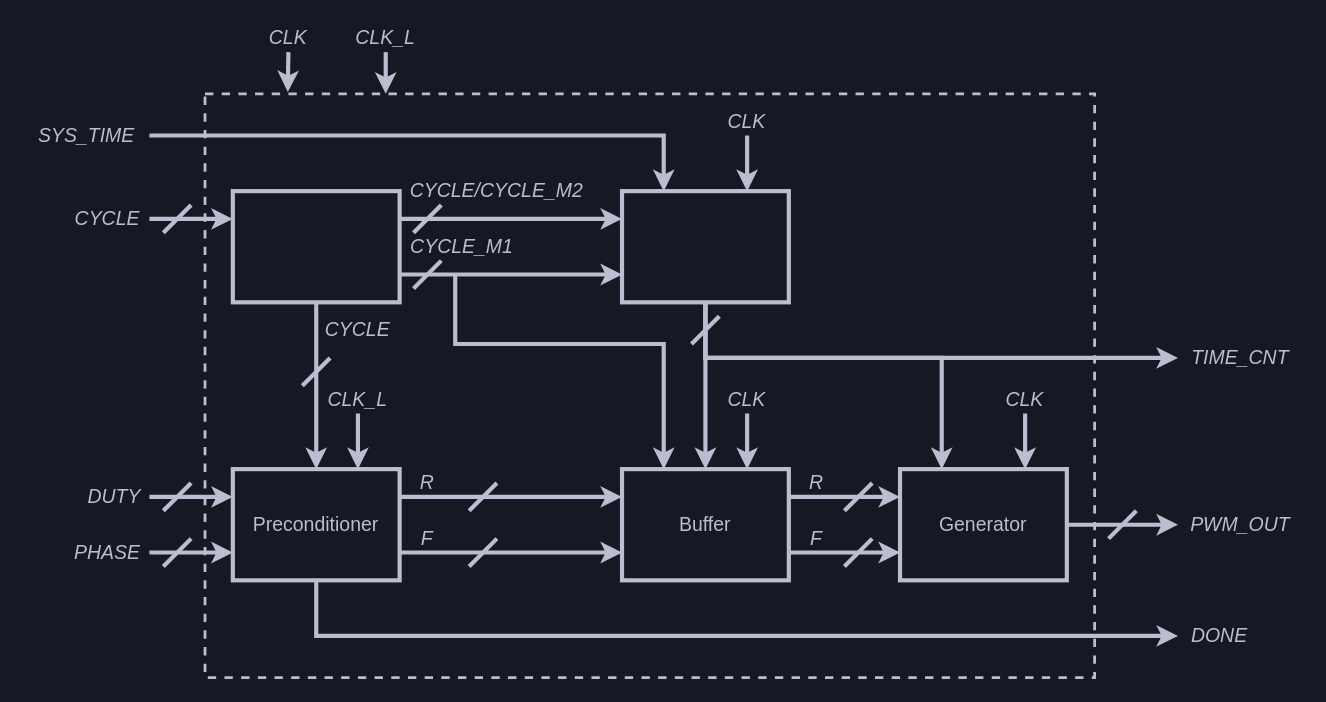
Some shapes in this 1326 by 702 pixel diagram are drawn without their labels. The shapes that lost their labels are listed below. From the top down, each one's centre as x and y in pixels, then its label:
[315,246]: CYCLE Buffer
[704,246]: Time Count Generator
